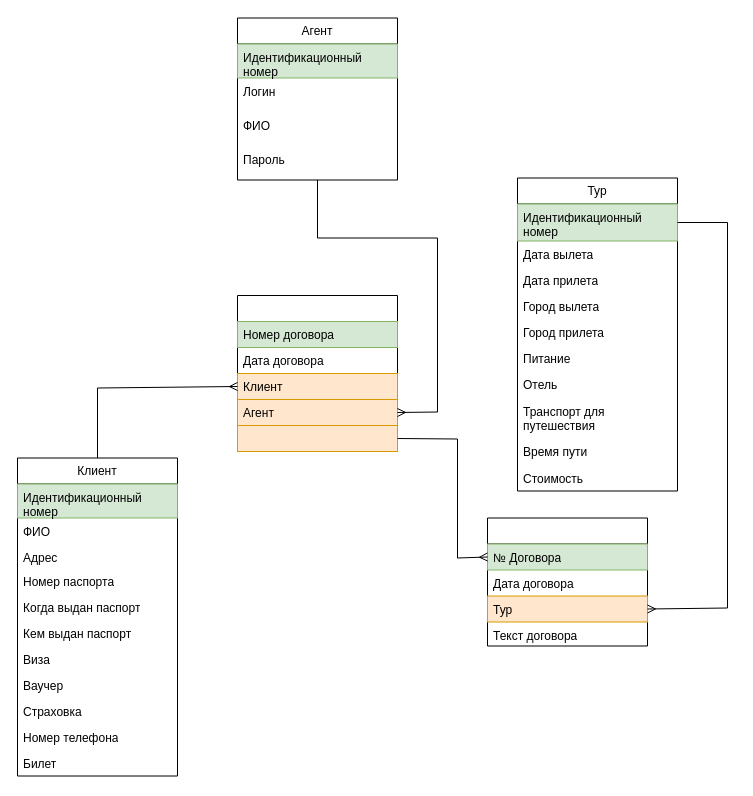
Image size: 753x796. Some labels were removed from this diagram. The shapes that lost their labels are listed below. From the top down, each one's box as (x1, y1, x2, y2) in pixels, then its label:
(236, 294, 398, 452): Путёвка
(236, 424, 398, 452): Договор
(486, 517, 648, 646): Догвор
